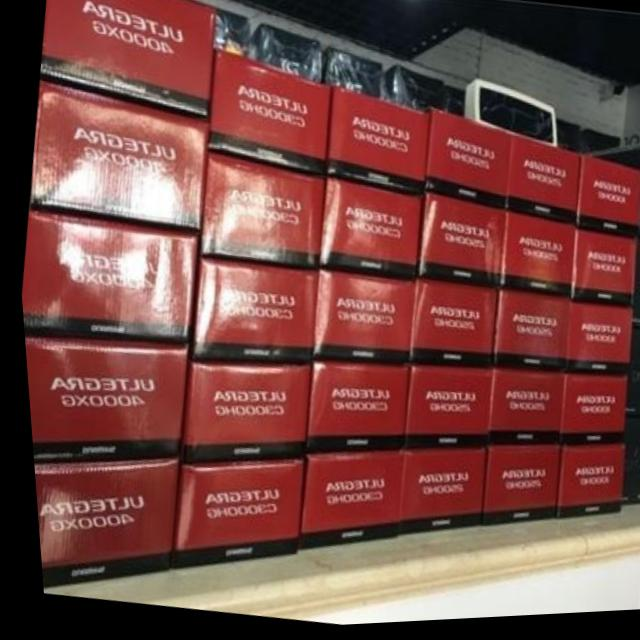box: (28, 79, 206, 236), (18, 204, 196, 348), (19, 332, 183, 464), (40, 0, 216, 122), (27, 463, 171, 590), (205, 53, 330, 179), (192, 154, 323, 271), (184, 259, 316, 366), (163, 463, 296, 569), (171, 362, 305, 463), (323, 87, 427, 201), (315, 179, 420, 285), (292, 454, 399, 553), (306, 271, 411, 370), (416, 112, 507, 215), (300, 366, 404, 454), (412, 196, 502, 295), (404, 281, 492, 372), (389, 454, 481, 540), (398, 369, 486, 454), (503, 138, 577, 232), (495, 219, 571, 306), (472, 451, 553, 531), (488, 296, 564, 379), (480, 372, 559, 451), (573, 160, 637, 245), (584, 151, 640, 244), (548, 451, 617, 525), (552, 380, 622, 452), (568, 237, 632, 315), (560, 307, 627, 381), (615, 422, 640, 512), (619, 332, 640, 423), (627, 243, 640, 333)
